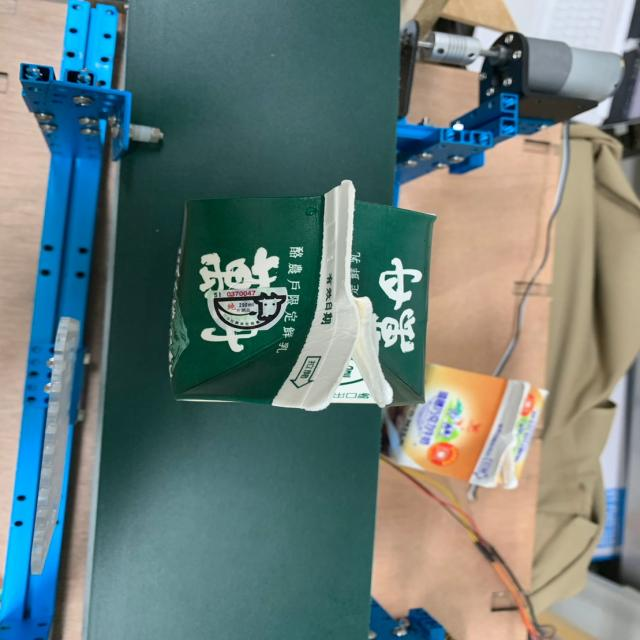non_white_jug: (146, 164, 447, 421), (378, 349, 558, 505)
